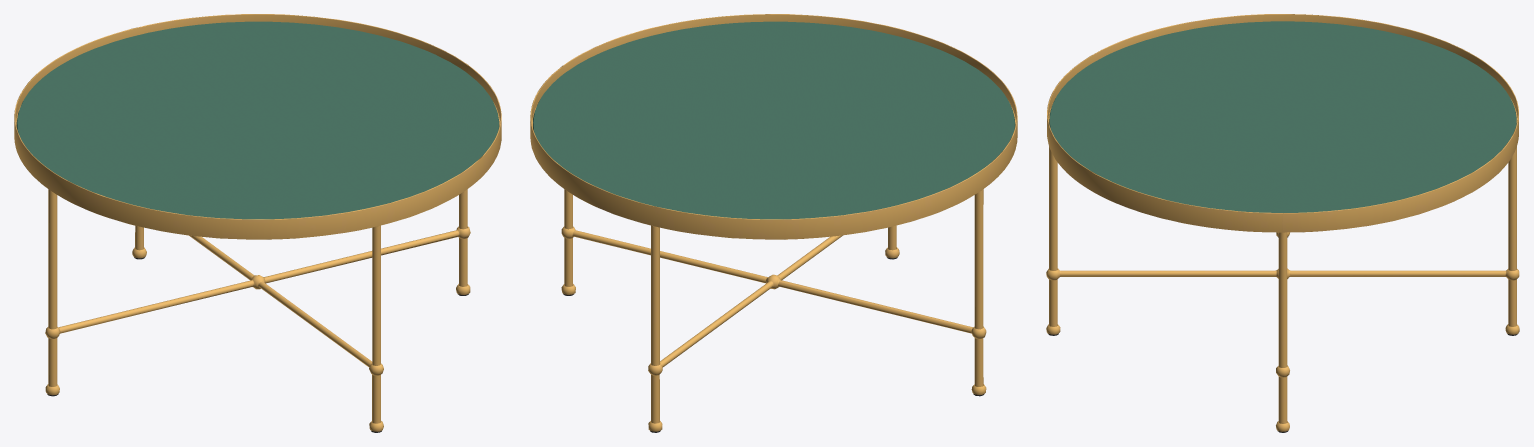
Rendered from torsjo_stolik_kawowy_50590406.glb.
3 renders of one model, left to right at view 1: azimuth 30°, elevation 25°; view 2: azimuth 150°, elevation 25°; view 3: azimuth 270°, elevation 25°, orthographic. The views are drawn at different scales.
Parts seen in each view (by area): view 1: torsjo_stolik_kawowy_50590406; view 2: torsjo_stolik_kawowy_50590406; view 3: torsjo_stolik_kawowy_50590406.
Boxes of the visible parts, box(x1,y1,x2,y2) form: torsjo_stolik_kawowy_50590406: box(14, 14, 501, 432); torsjo_stolik_kawowy_50590406: box(530, 14, 1017, 432); torsjo_stolik_kawowy_50590406: box(1046, 14, 1519, 432).
Bounding box in the file's own units: 0.8843 × 0.454 × 0.8849.
Materials: 11 (11 with a texture image).
